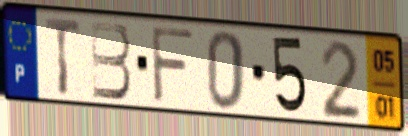0: (204, 28, 247, 113)
2: (319, 37, 363, 120)
5: (270, 36, 309, 115)
B: (88, 19, 134, 102)
F: (148, 23, 196, 106)
T: (42, 15, 84, 98)
